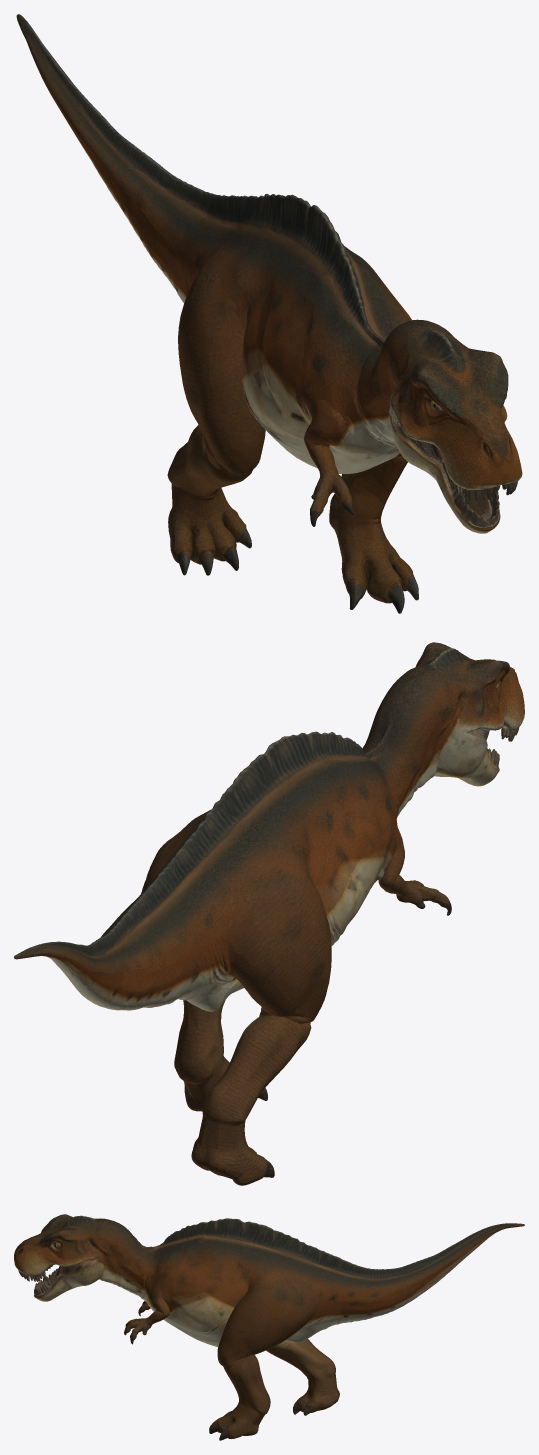
The model's file is RexPrime.glb.
3 views of the same model, one above another, from view 1: azimuth 30°, elevation 25°; view 2: azimuth 150°, elevation 25°; view 3: azimuth 270°, elevation 25° (orthographic). The views are drawn at different scales.
Size of the model in its own units: 0.4236 by 0.8302 by 1.9.
1 material, 1 textured.
